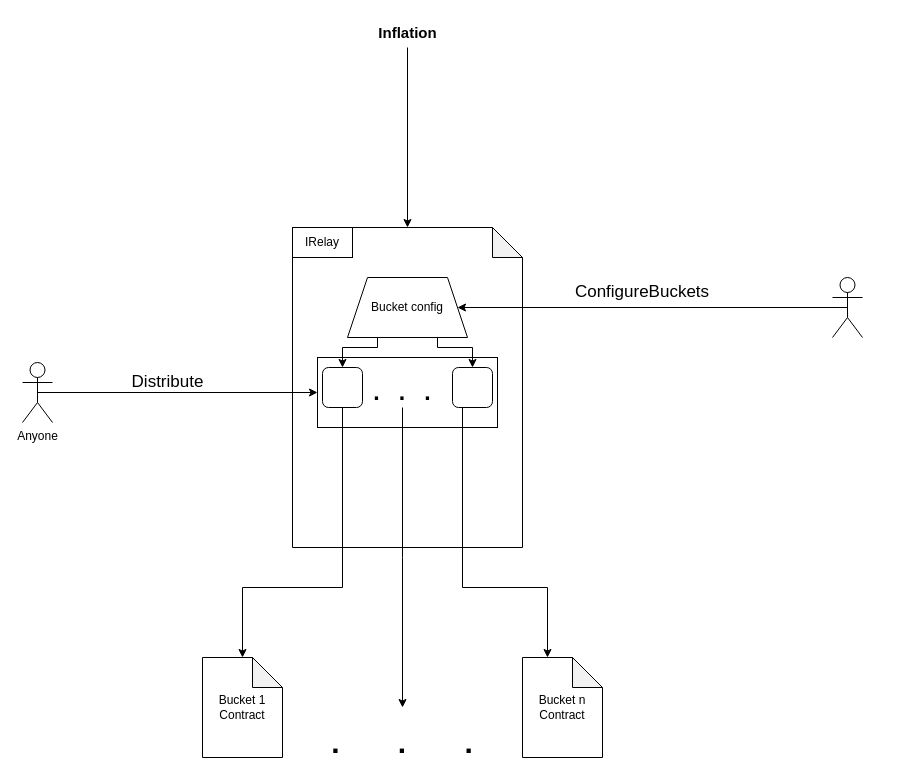
Some shapes in this 897 by 777 pixel diagram are drawn without their labels. The shapes that lost their labels are listed below. From the top down, each one's centre as x and y in pixels, then its label:
At (x=847, y=307): "Governance".
At (x=342, y=387): "Bucket 1".
At (x=472, y=387): "Bucket n".
